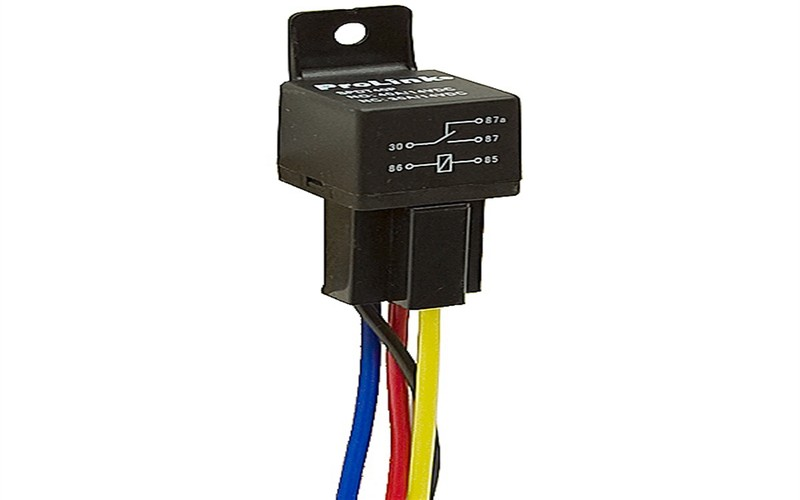Switches: (238, 3, 542, 498)
